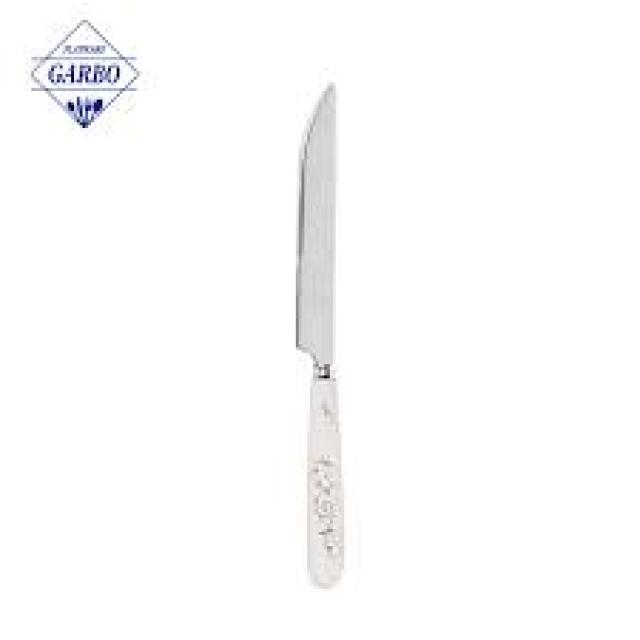Knife: (296, 82, 344, 586)
